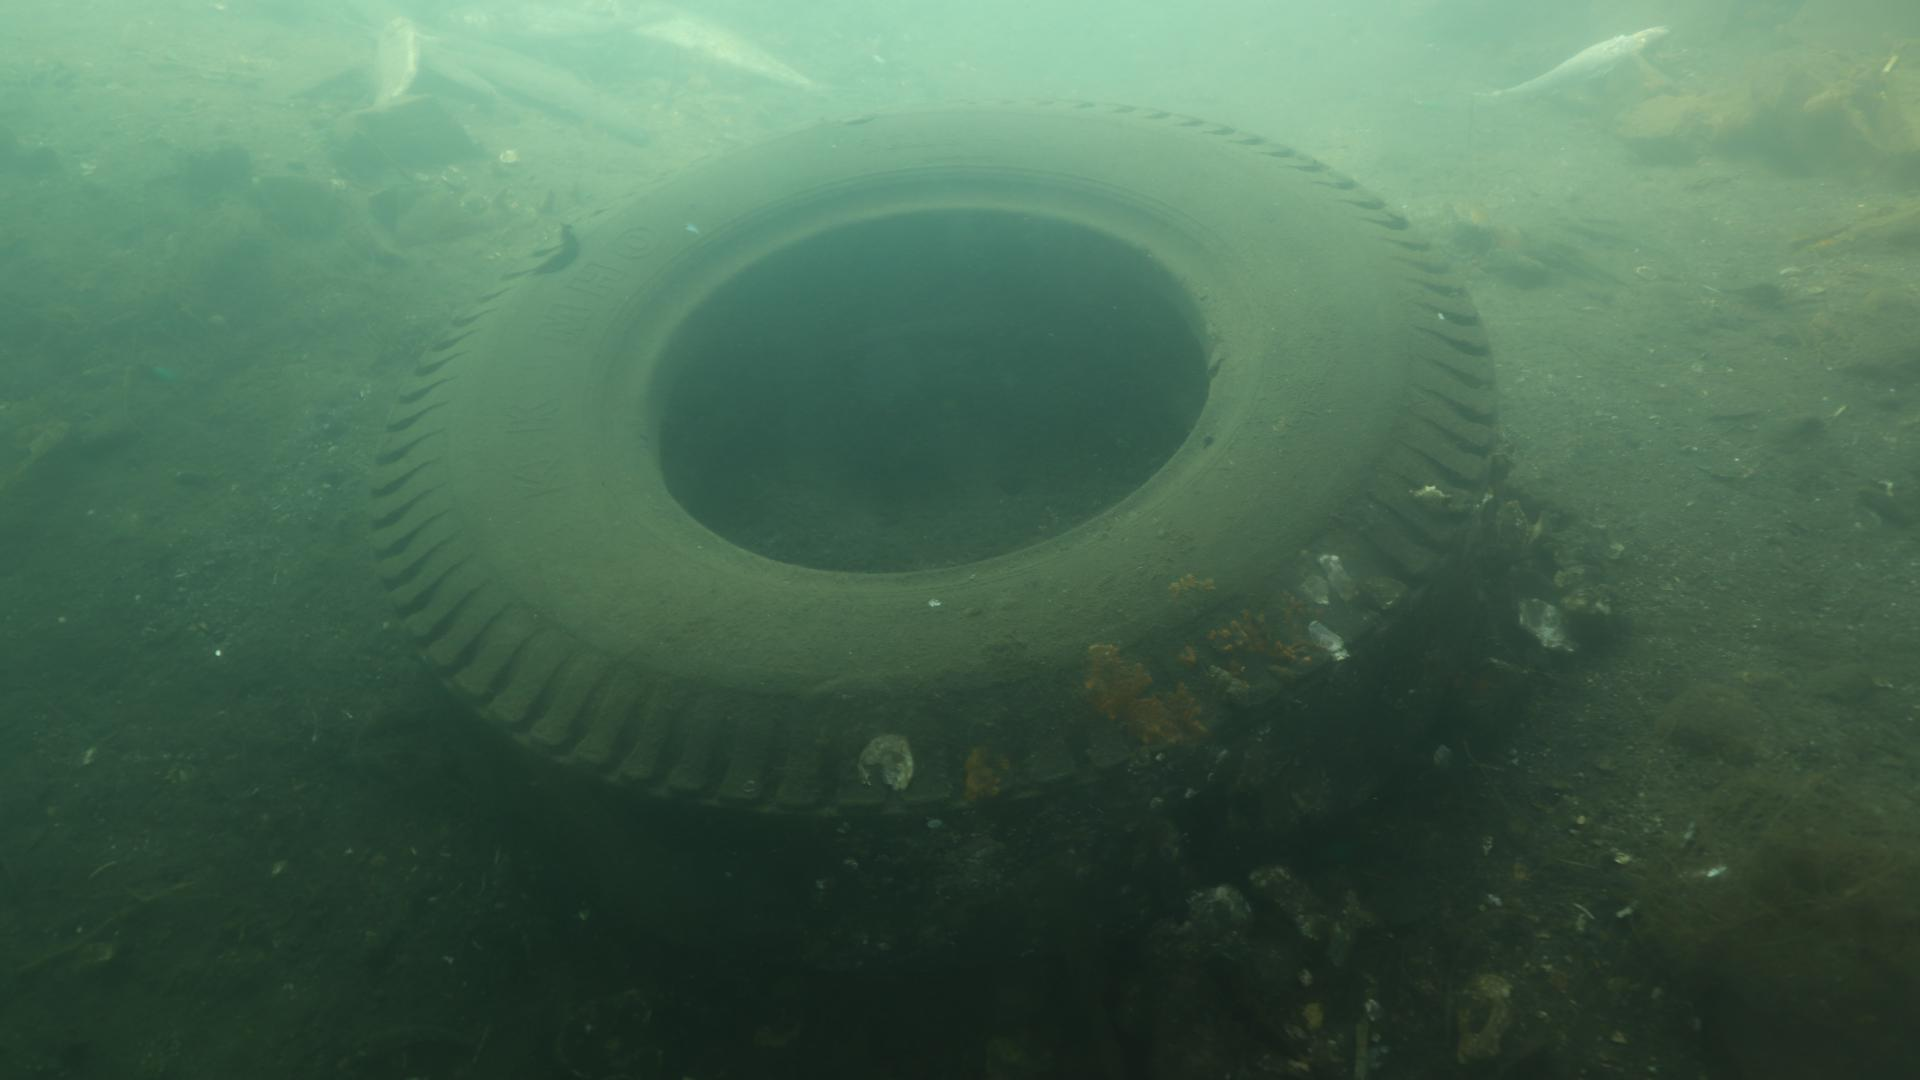tire: (365, 94, 1498, 923)
